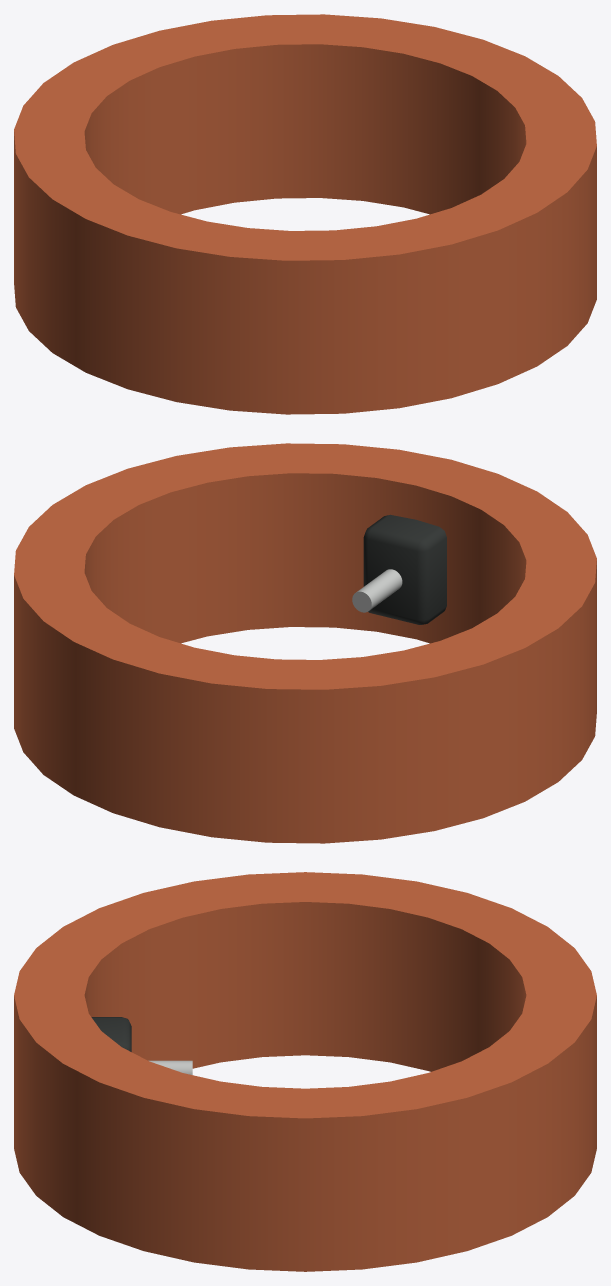
The model's file is orbital_welding_head_rotor_ring.glb.
The picture shows the model from 3 angles, top to bottom: view 1: azimuth 30°, elevation 25°; view 2: azimuth 150°, elevation 25°; view 3: azimuth 270°, elevation 25°; orthographic projection.
Visible parts, largest first — view 1: orbital_welding_head_rotor_ring; view 2: orbital_welding_head_rotor_ring; view 3: orbital_welding_head_rotor_ring.
Part boxes in pixels (left/top/right/bottom): orbital_welding_head_rotor_ring: left=14, top=14, right=596, bottom=414; orbital_welding_head_rotor_ring: left=14, top=443, right=596, bottom=843; orbital_welding_head_rotor_ring: left=14, top=872, right=596, bottom=1271.
Size of the model in its own units: 0.062 by 0.018 by 0.062.
